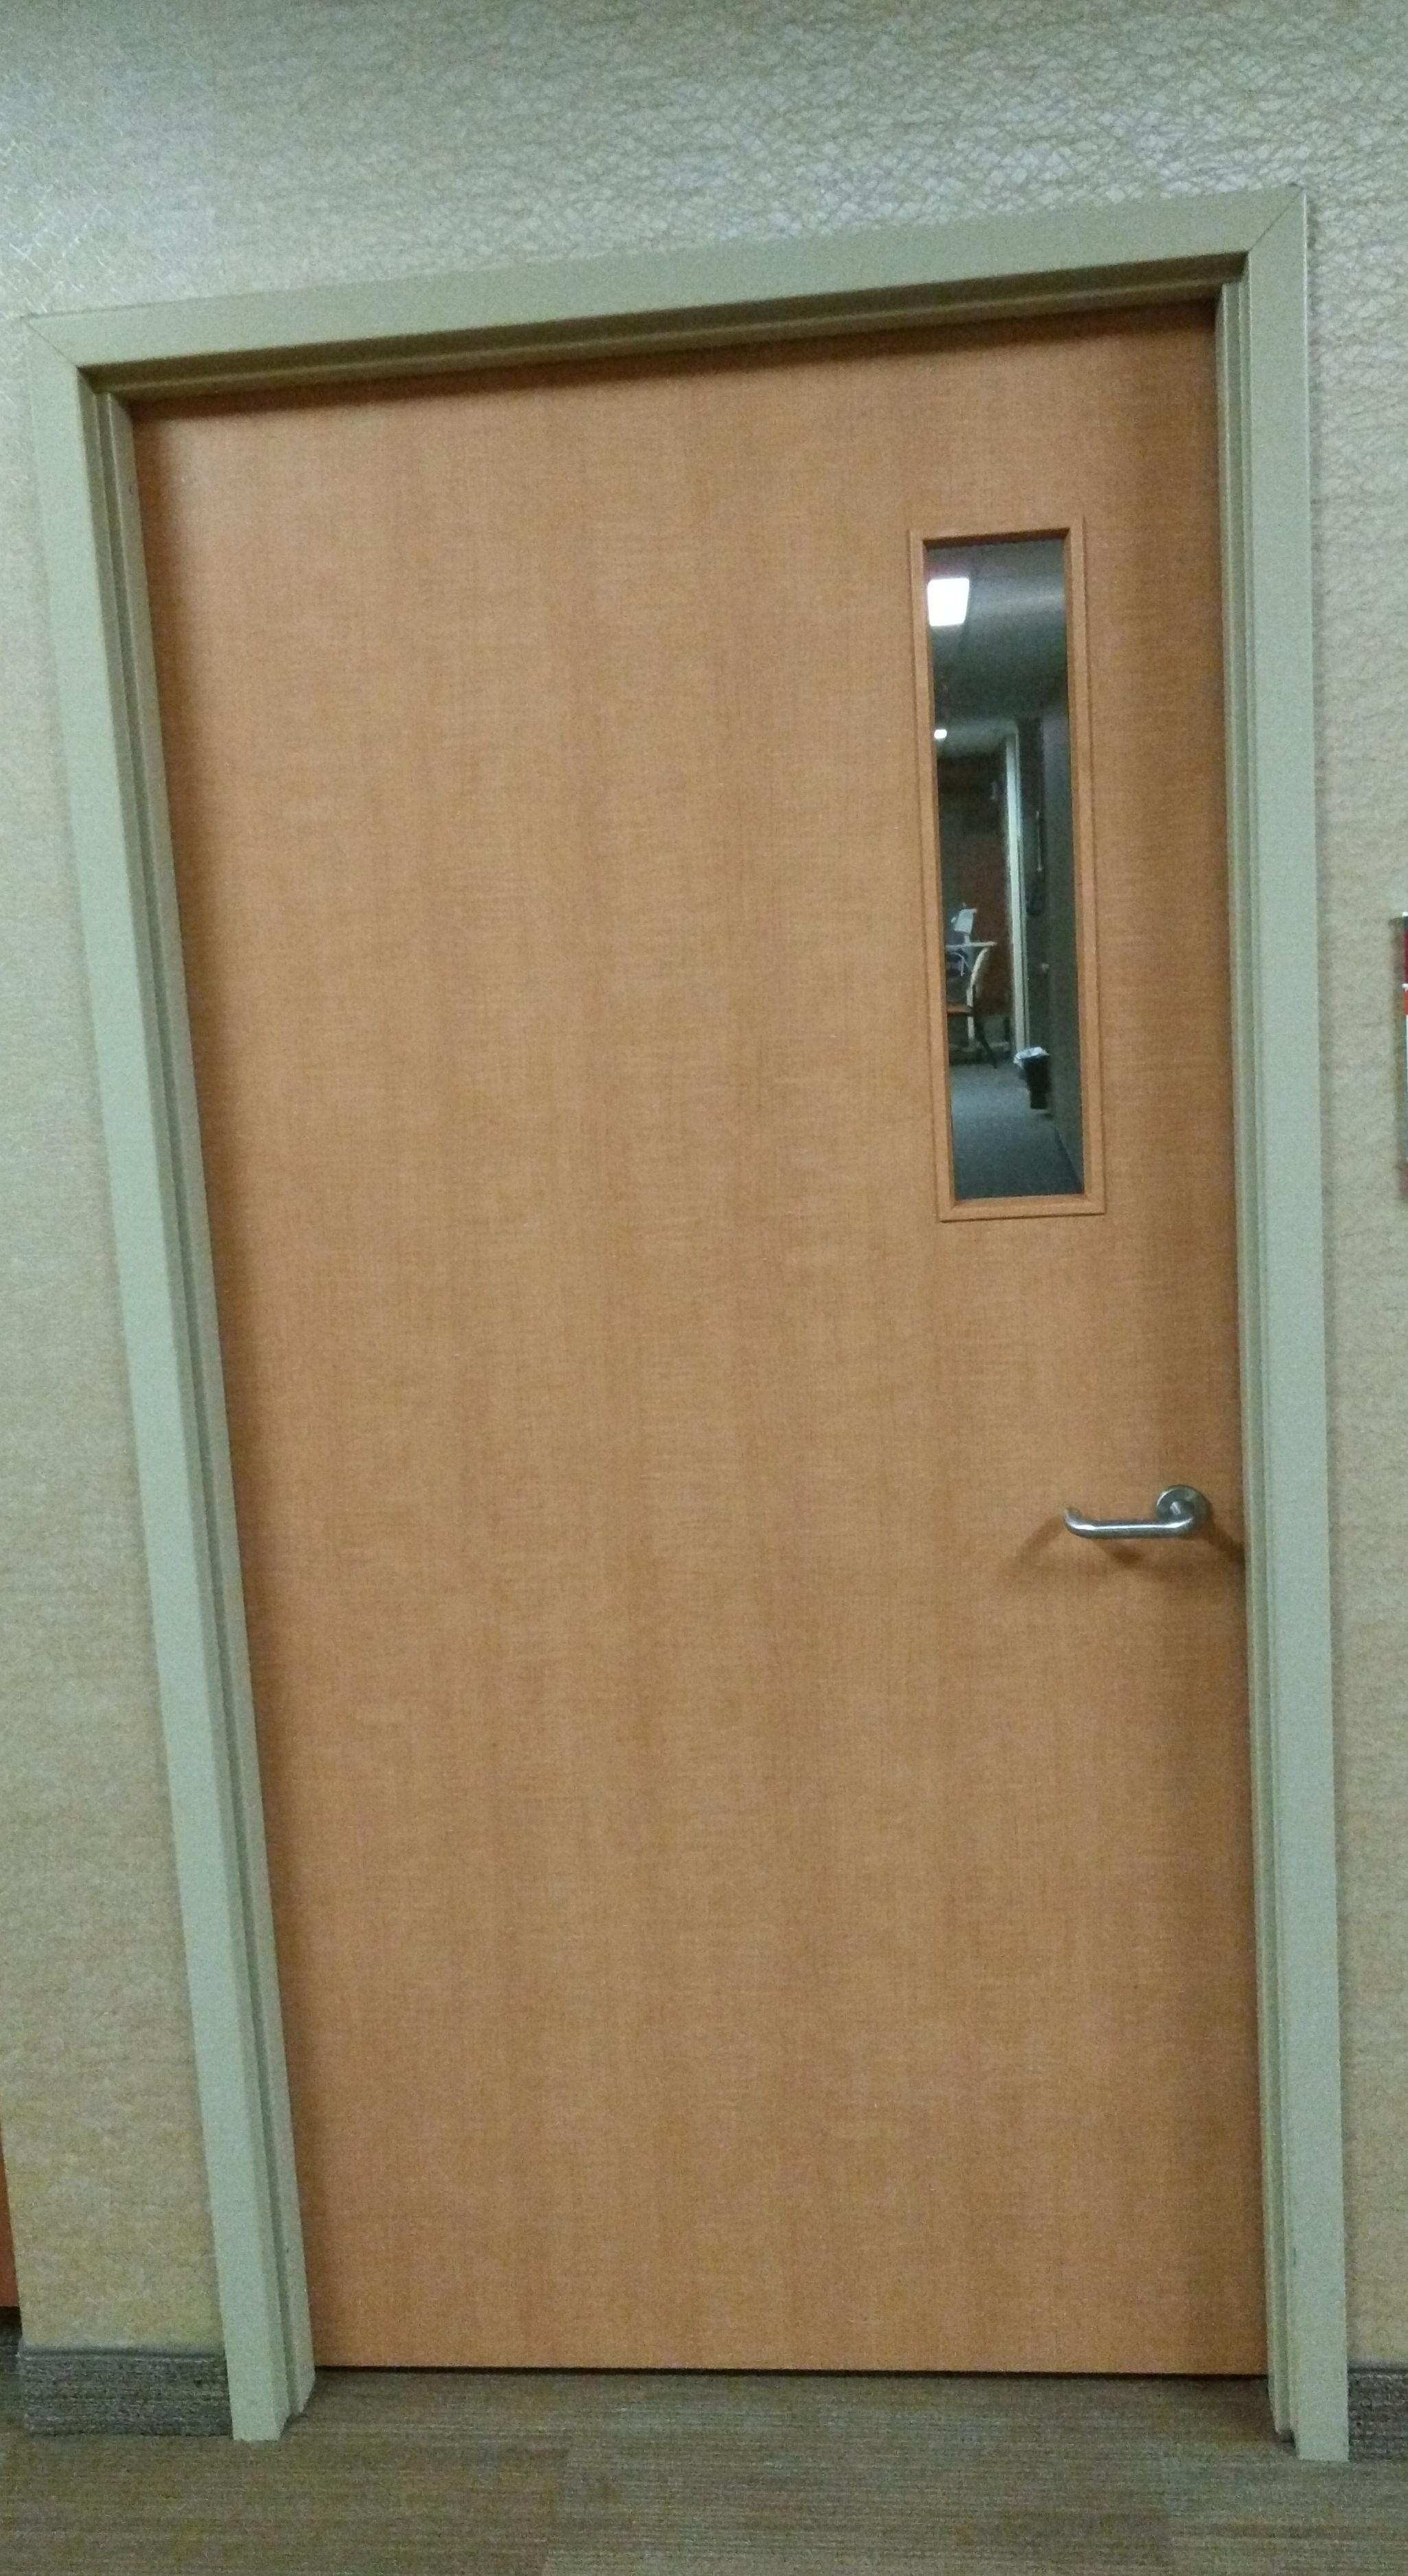door: (57, 274, 1342, 2418)
